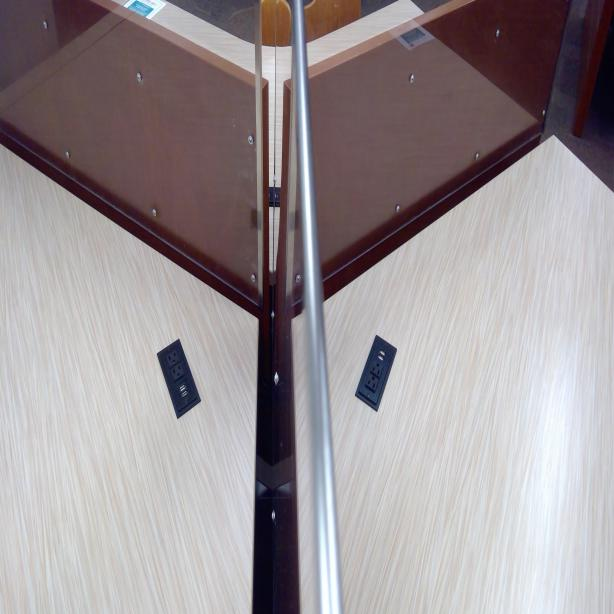typeb: (165, 346, 177, 365), (371, 359, 382, 377), (368, 375, 378, 393), (172, 363, 183, 377)
